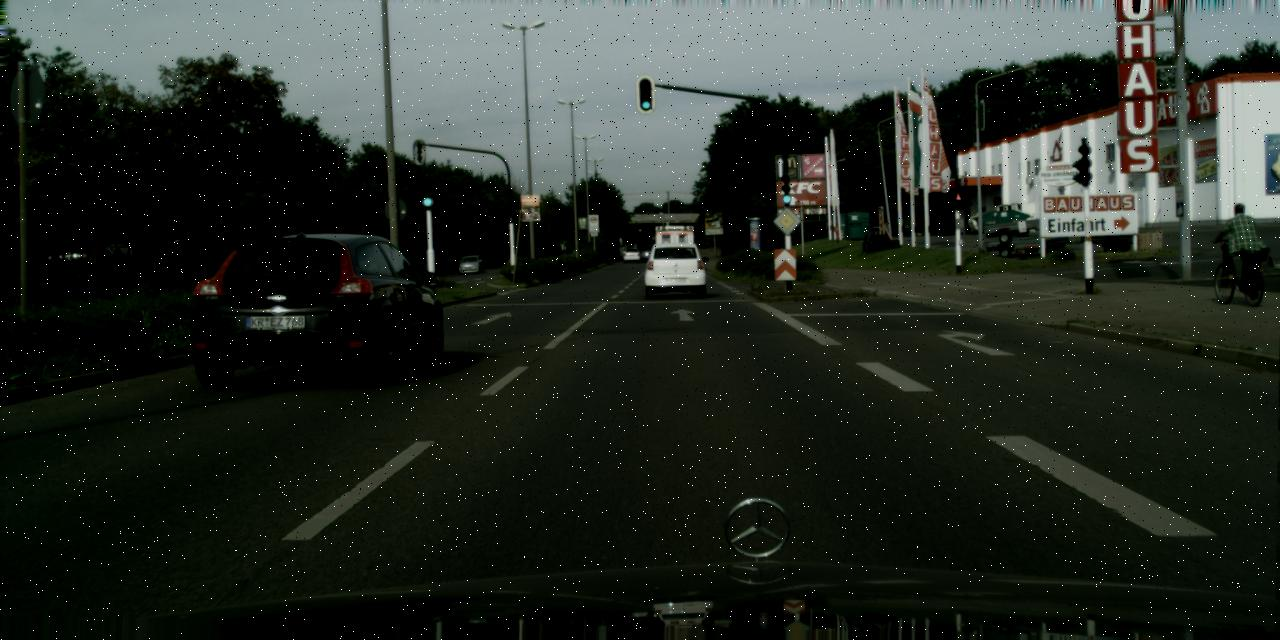ped: (1222, 201, 1258, 287)
